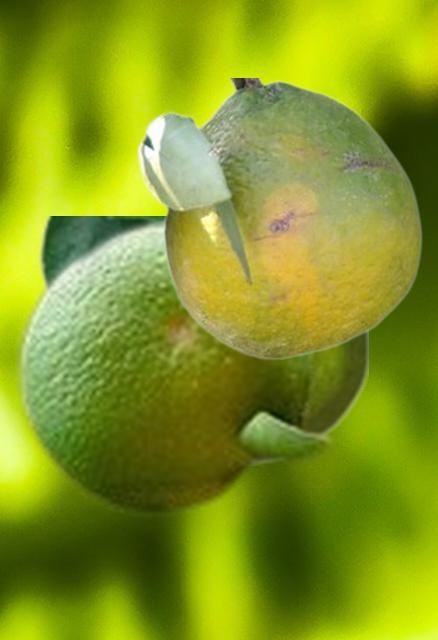dalandan: (12, 214, 338, 515), (135, 78, 422, 359), (37, 216, 367, 430)
